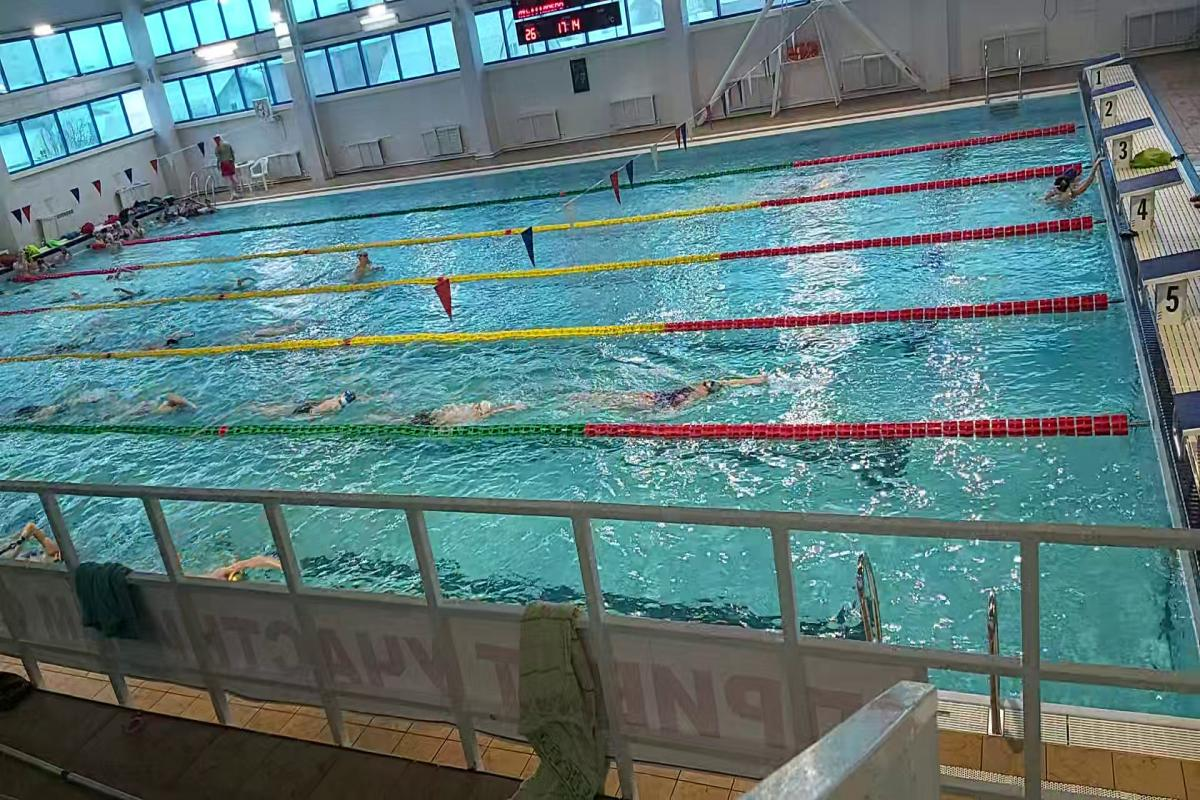swimmer: (582, 359, 778, 414), (260, 381, 366, 421), (184, 540, 278, 584), (405, 392, 523, 422), (119, 377, 197, 417), (3, 529, 77, 562), (340, 246, 384, 281), (1046, 176, 1078, 210)
